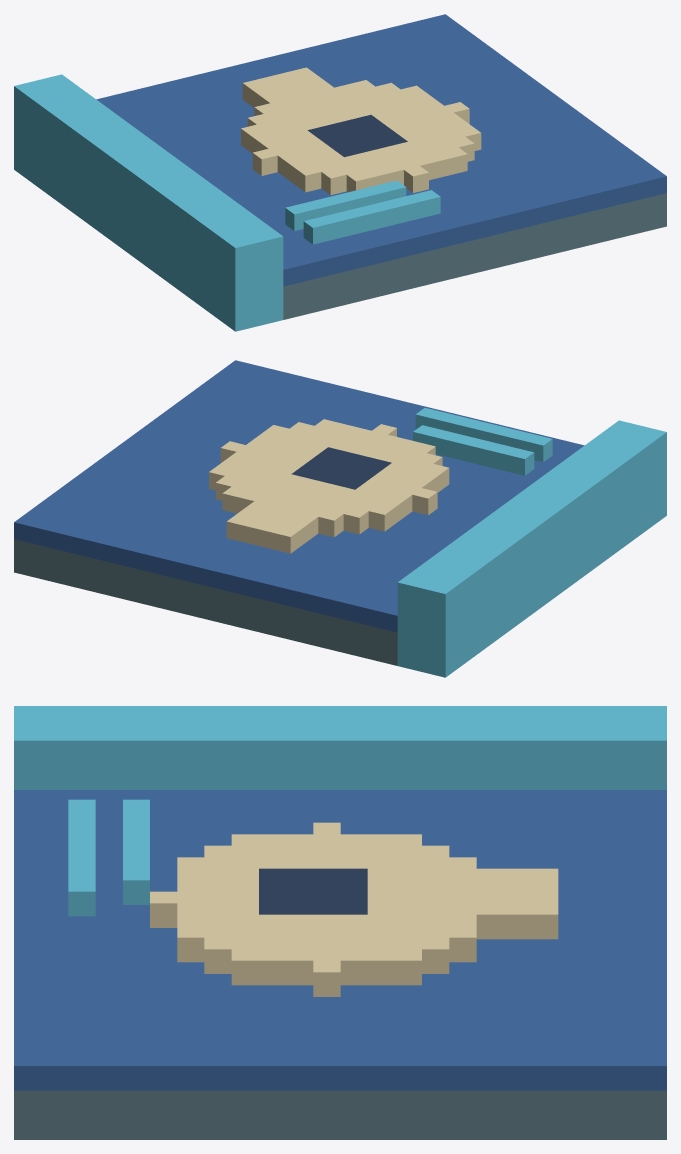
File: voxel_32_70150.glb
3 views of the same model, one above another, from view 1: azimuth 30°, elevation 25°; view 2: azimuth 150°, elevation 25°; view 3: azimuth 270°, elevation 25° (orthographic). The views are drawn at different scales.
Parts seen in each view (by area): view 1: prop_70150; view 2: prop_70150; view 3: prop_70150.
Part boxes in pixels (x1,y1,x2,y2): prop_70150: (14, 14, 666, 331); prop_70150: (14, 360, 666, 677); prop_70150: (14, 706, 666, 1139).
Size of the model in its own units: 0.7003 by 0.1297 by 0.6225.
